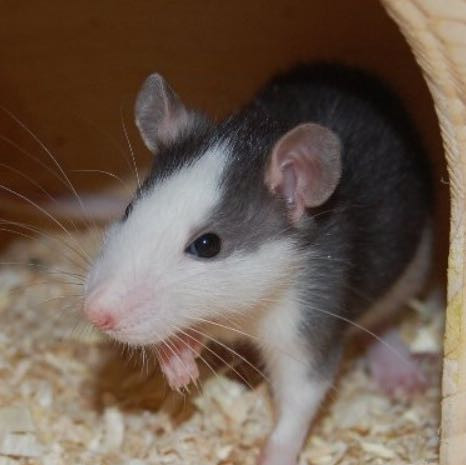rat: (55, 49, 410, 404)
